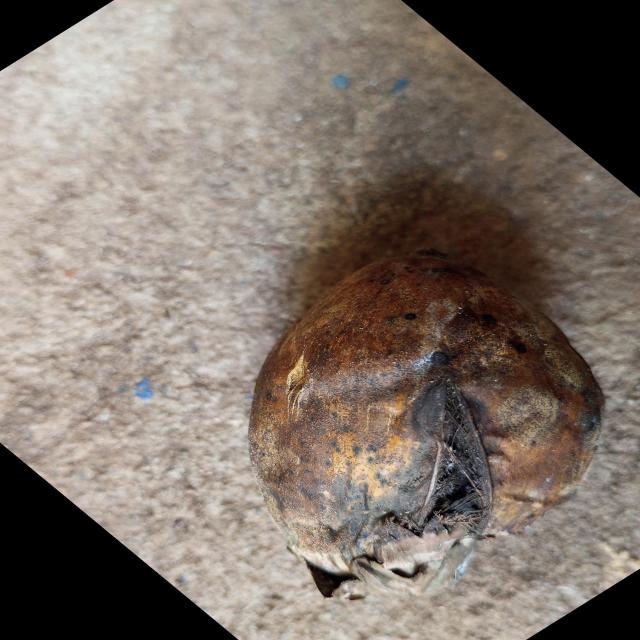damaged: (250, 249, 603, 599)
